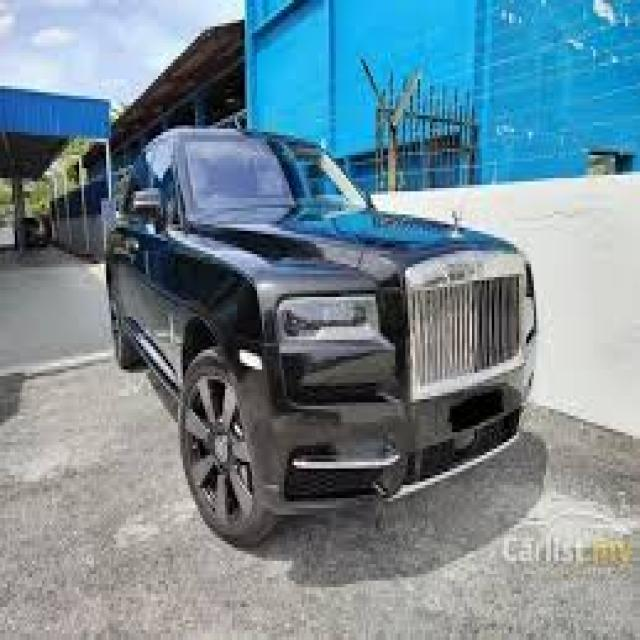SUV: (104, 123, 537, 547)
